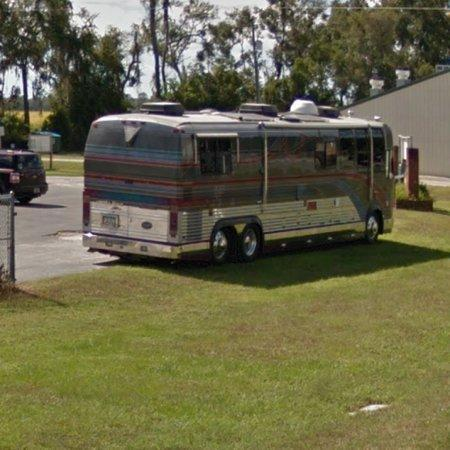buses: (83, 100, 395, 264)
